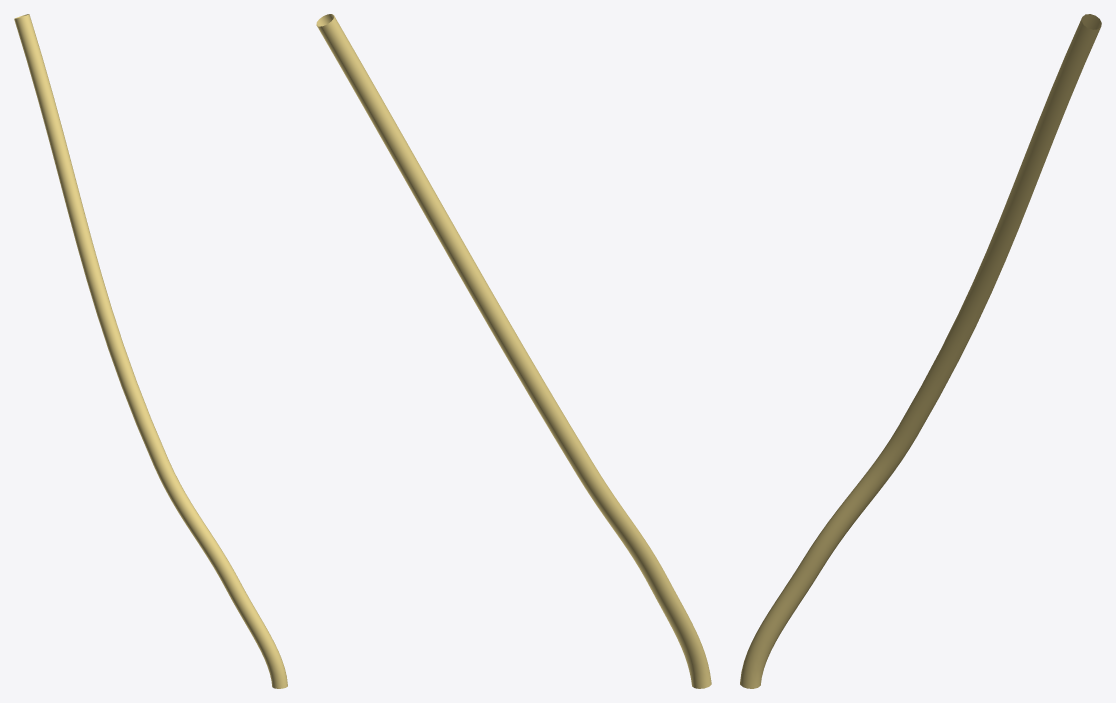
The picture shows the model from 3 angles, left to right: view 1: azimuth 90°, elevation 25°; view 2: azimuth 150°, elevation 25°; view 3: azimuth 270°, elevation 25°; orthographic projection. The views are drawn at different scales.
Parts seen in each view (by area): view 1: ZA_55fedd4605b1780c; view 2: ZA_55fedd4605b1780c; view 3: ZA_55fedd4605b1780c.
Boxes of the visible parts, left/top/right/bottom form: ZA_55fedd4605b1780c: left=14, top=14, right=287, bottom=688; ZA_55fedd4605b1780c: left=316, top=14, right=711, bottom=688; ZA_55fedd4605b1780c: left=740, top=14, right=1101, bottom=688.
Size of the model in its own units: 0.0133 by 0.0401 by 0.0169.
